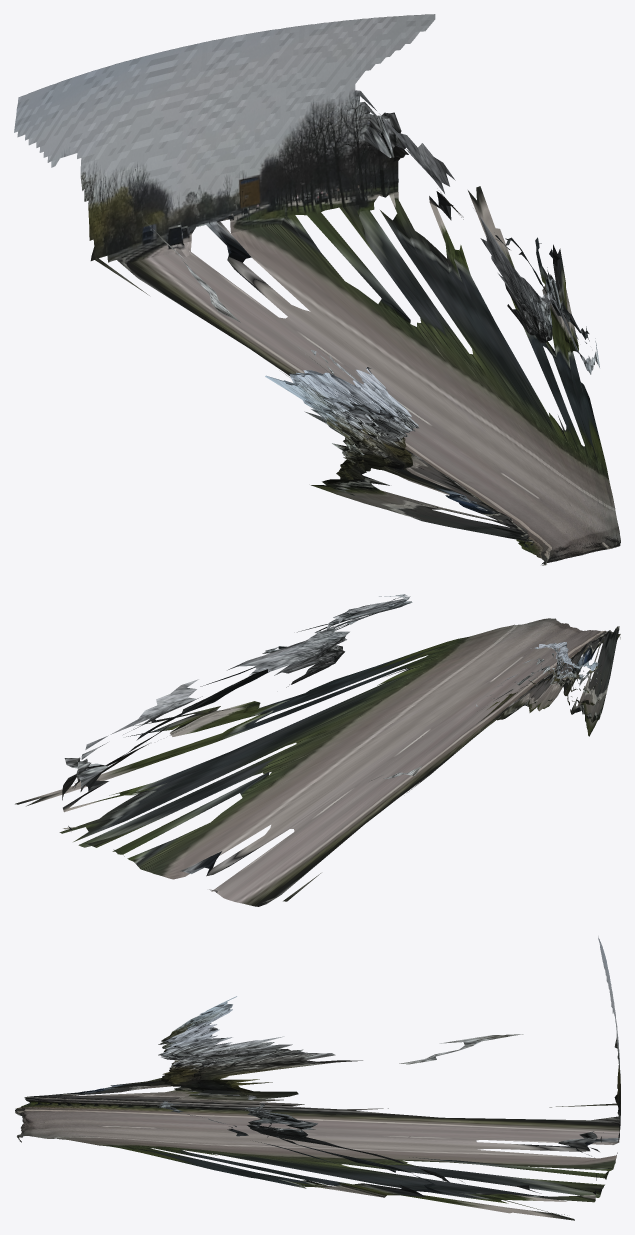
The picture shows the model from 3 angles, top to bottom: view 1: azimuth 30°, elevation 25°; view 2: azimuth 150°, elevation 25°; view 3: azimuth 270°, elevation 25°; orthographic projection. The views are drawn at different scales.
Parts seen in each view (by area): view 1: defaultobject; view 2: defaultobject; view 3: defaultobject.
Part boxes in pixels (<box>): defaultobject: <box>14,14,620,565</box>; defaultobject: <box>15,594,620,906</box>; defaultobject: <box>15,936,620,1220</box>.
Size of the model in its own units: 27.35 by 12.09 by 44.69.
1 material, 1 textured.
